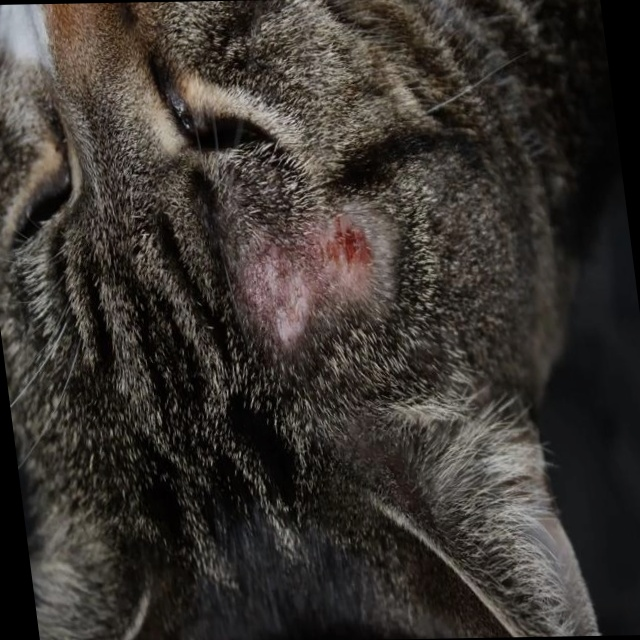ringworm: (239, 220, 404, 331)
